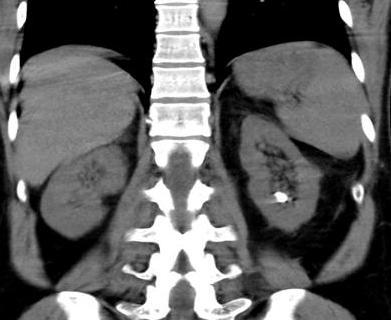Tas_Var: (272, 190, 291, 205)
